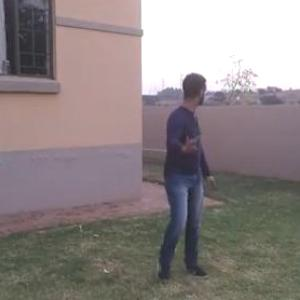takeoff-hand: (179, 125, 201, 157)
